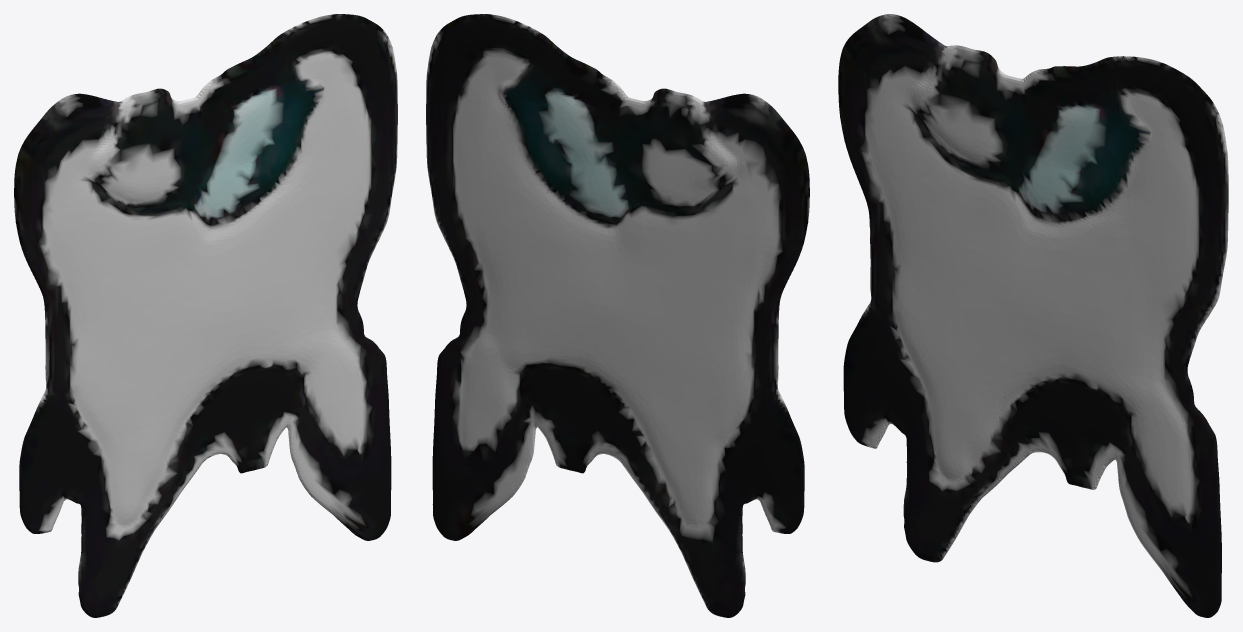
File: tooth.glb
3 views of the same model, side by side, from view 1: azimuth 30°, elevation 25°; view 2: azimuth 150°, elevation 25°; view 3: azimuth 330°, elevation 25° (orthographic).
Parts seen in each view (by area): view 1: geometry_0; view 2: geometry_0; view 3: geometry_0.
Boxes of the visible parts, x1,y1,x2,y2 form: geometry_0: (14,14,397,617); geometry_0: (426,14,809,617); geometry_0: (838,14,1228,617).
Size of the model in its own units: 0.375 by 0.5107 by 0.0116.
